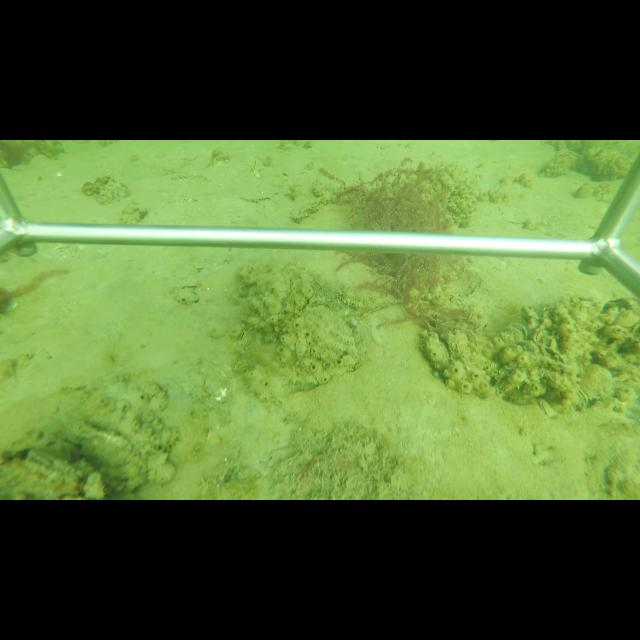Oyster-Closed: (279, 306, 360, 384)
